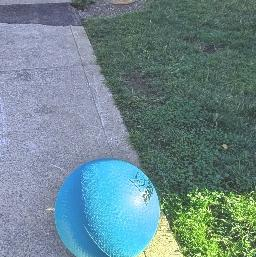algae: (53, 157, 161, 257)
